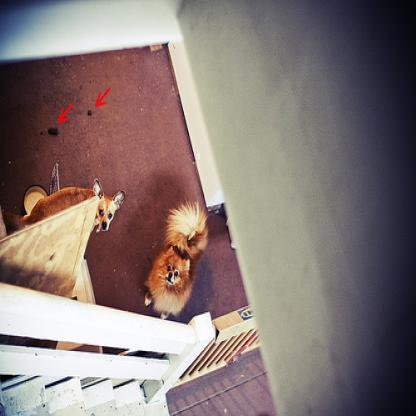dog: (142, 200, 209, 321), (0, 180, 125, 237)
